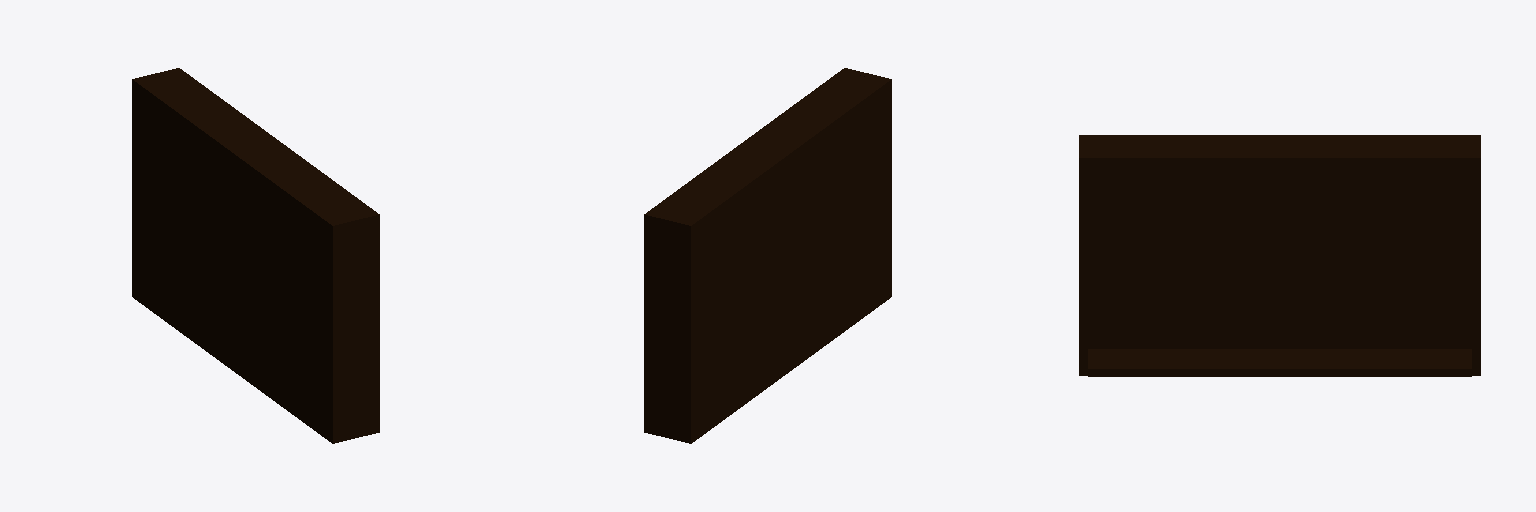
File: GlassShelves.obj
The picture shows the model from 3 angles: view 1: azimuth 30°, elevation 25°; view 2: azimuth 150°, elevation 25°; view 3: azimuth 270°, elevation 25°; orthographic projection.
Visible parts, largest first — view 1: pCube1, pCube5, pCube3, pCube4; view 2: pCube1, pCube4, pCube3, pCube5; view 3: pCube1, pCube3, pCube2, pCube4, pCube5.
Part boxes in pixels (bbox=[...]): pCube1: bbox=[136, 81, 333, 441]; pCube5: bbox=[329, 212, 379, 443]; pCube3: bbox=[143, 71, 375, 221]; pCube4: bbox=[132, 68, 182, 299]; pCube1: bbox=[690, 81, 888, 440]; pCube4: bbox=[644, 212, 694, 443]; pCube3: bbox=[648, 71, 880, 221]; pCube5: bbox=[841, 68, 891, 298]; pCube1: bbox=[1088, 135, 1471, 348]; pCube3: bbox=[1085, 138, 1471, 165]; pCube2: bbox=[1088, 349, 1471, 376]; pCube4: bbox=[1472, 135, 1480, 375]; pCube5: bbox=[1079, 135, 1087, 375].
Bounding box in the file's own units: 1.12 × 4.98 × 8.29.